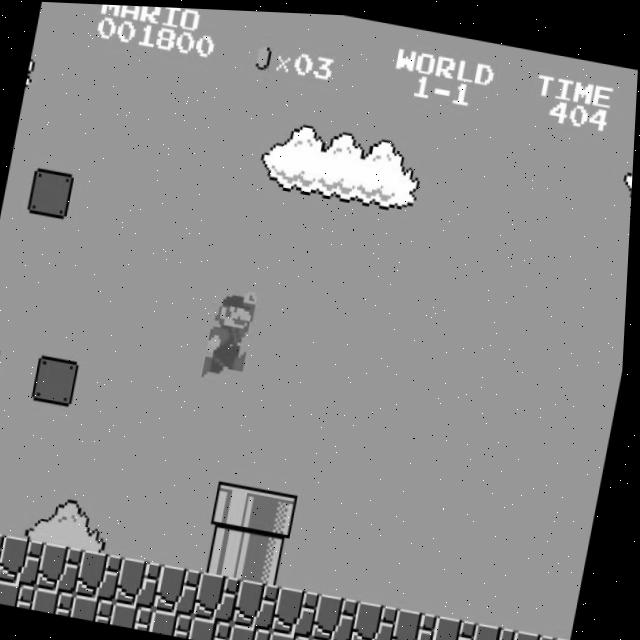0- big_mario: (202, 281, 262, 382)
14- pipe: (207, 524, 256, 577), (246, 531, 295, 584)
15- pipe_head: (215, 479, 264, 532), (255, 486, 304, 539)
17- undestructible_block: (2, 534, 51, 587), (41, 541, 90, 594), (159, 562, 208, 615), (199, 569, 248, 622), (238, 576, 287, 629), (278, 583, 327, 636), (81, 549, 130, 601), (120, 556, 169, 608), (317, 590, 366, 640), (356, 597, 405, 640), (395, 604, 444, 640), (435, 611, 484, 640), (155, 607, 201, 637), (116, 600, 161, 630), (37, 587, 82, 616), (76, 594, 121, 623), (0, 580, 43, 609), (195, 614, 240, 640), (475, 617, 524, 640), (234, 621, 279, 640), (514, 625, 562, 640), (0, 528, 11, 580), (273, 628, 318, 640), (313, 635, 358, 640), (555, 631, 577, 640), (0, 573, 3, 602)
3- empty_block: (35, 354, 84, 407), (28, 167, 77, 219), (0, 343, 4, 393)
